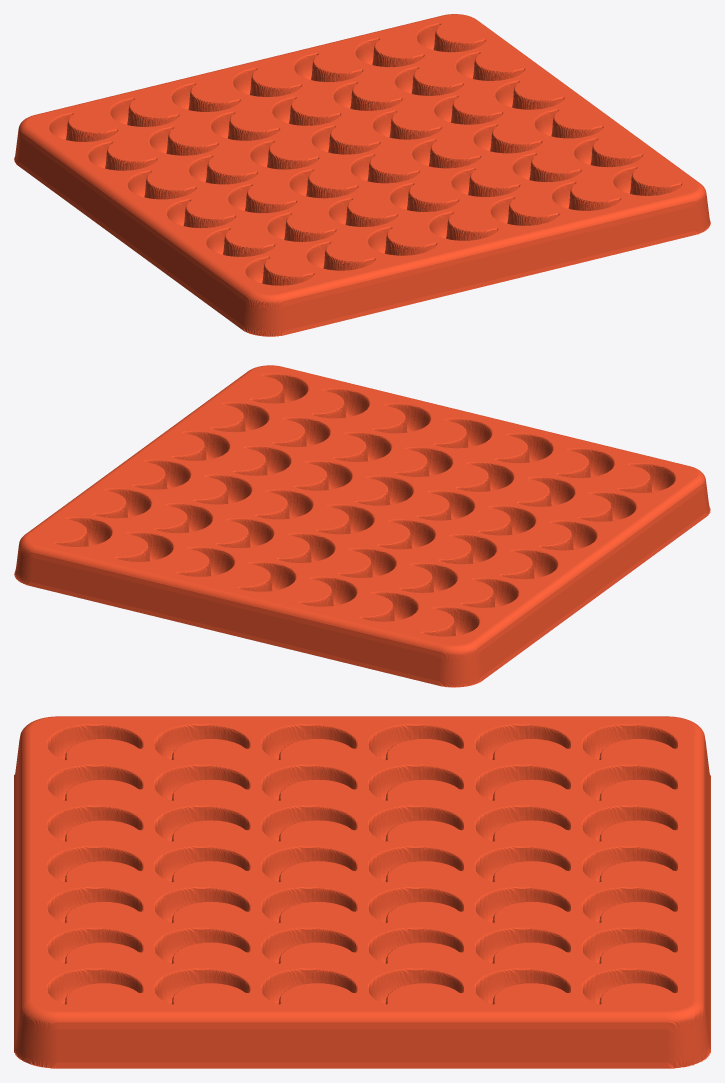
The model's file is mold.glb.
3 views of the same model, one above another, from view 1: azimuth 30°, elevation 25°; view 2: azimuth 150°, elevation 25°; view 3: azimuth 270°, elevation 25° (orthographic). The views are drawn at different scales.
Parts seen in each view (by area): view 1: geometry_0; view 2: geometry_0; view 3: geometry_0.
Part boxes in pixels (x1,y1,x2,y2): geometry_0: [14, 14, 710, 336]; geometry_0: [14, 365, 710, 687]; geometry_0: [14, 716, 710, 1068].
Bounding box in the file's own units: 0.1505 × 0.0114 × 0.1437.
